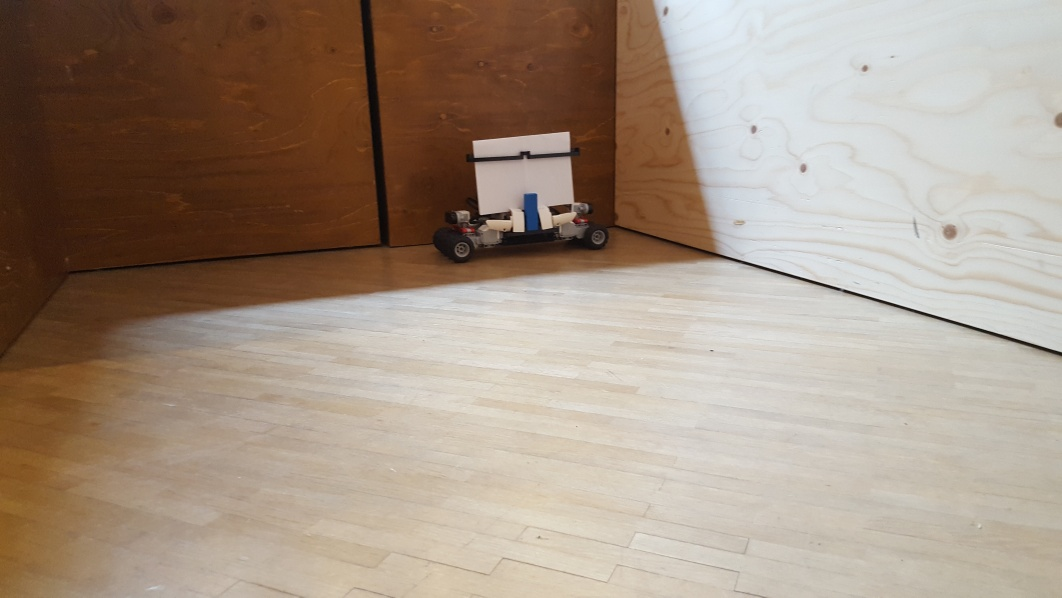car: (432, 130, 611, 262)
